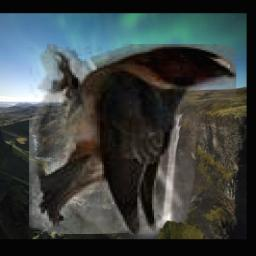Swallow: (30, 45, 237, 235)
